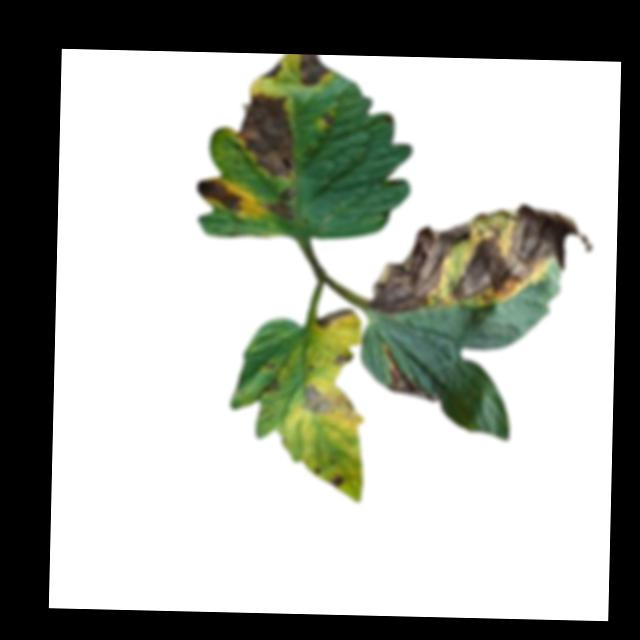Early_blight: (371, 200, 593, 319), (234, 91, 299, 180), (379, 339, 439, 403), (300, 382, 356, 416), (197, 176, 246, 213), (297, 55, 334, 88), (265, 186, 296, 221), (315, 304, 354, 329), (259, 57, 282, 81), (320, 110, 336, 133), (327, 472, 345, 488), (263, 375, 278, 394), (336, 352, 352, 366)
